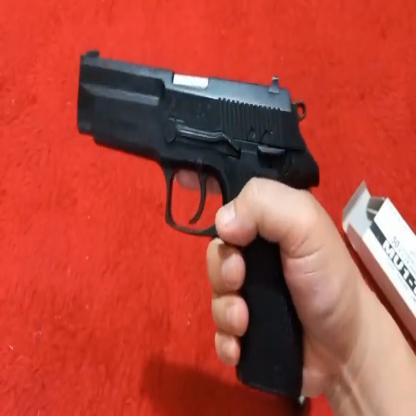handgun: (72, 46, 330, 395)
